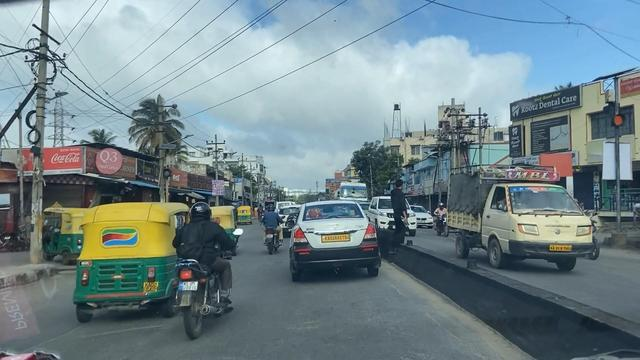LMV: (74, 202, 194, 319), (296, 198, 384, 282), (178, 208, 230, 339)
RoadDamages: (79, 325, 162, 344)
